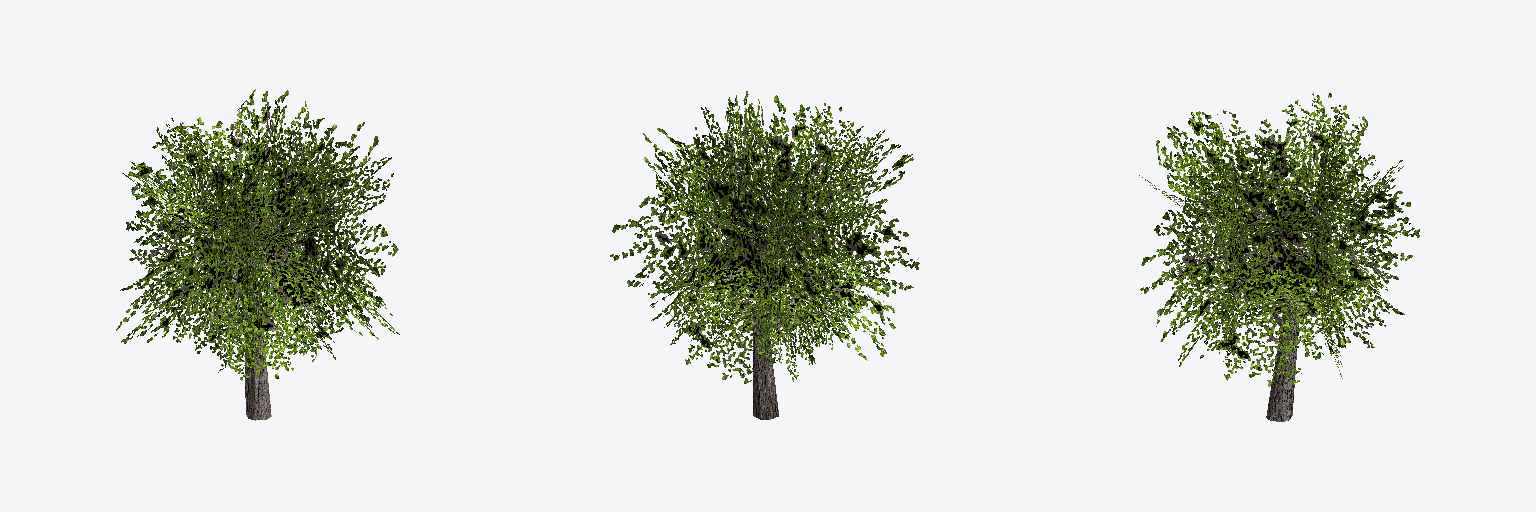
The picture shows the model from 3 angles: view 1: azimuth 30°, elevation 25°; view 2: azimuth 150°, elevation 25°; view 3: azimuth 270°, elevation 25°; orthographic projection.
Visible parts, largest first — view 1: Cylinder.002; view 2: Cylinder.002; view 3: Cylinder.002.
Part boxes in pixels (bbox=[...]): Cylinder.002: bbox=[116, 89, 399, 420]; Cylinder.002: bbox=[610, 91, 919, 419]; Cylinder.002: bbox=[1139, 93, 1419, 421].
Bounding box in the file's own units: 7.21 × 7.02 × 7.02.
1 materials, 1 textured.